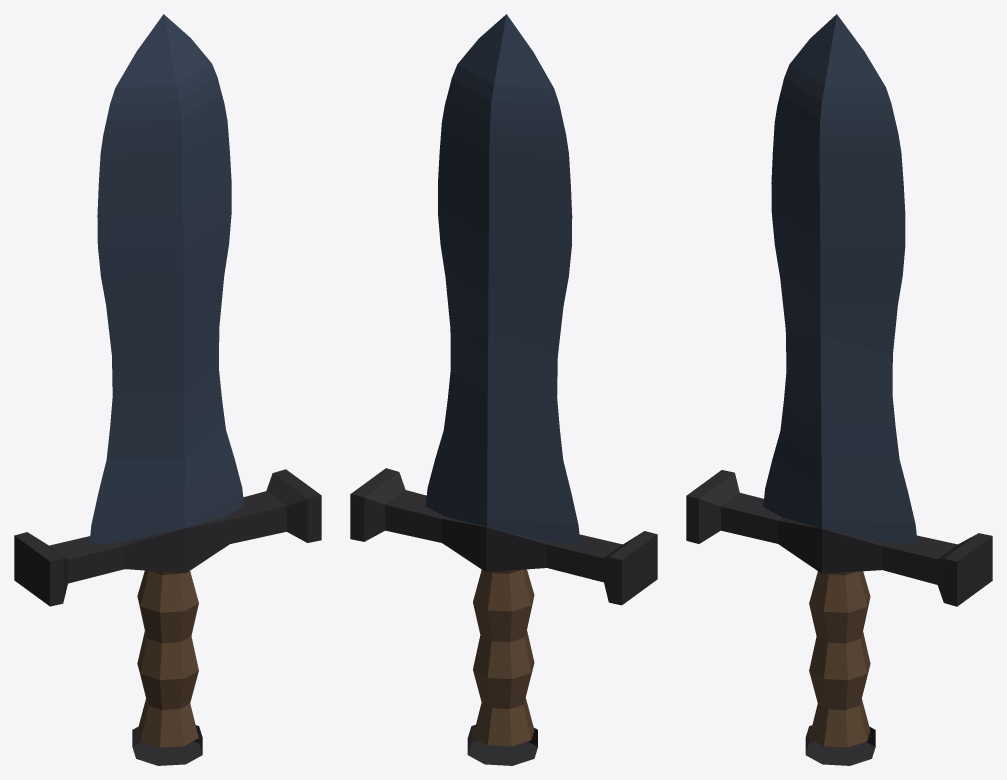
File: Sword.fbx
3 renders of one model, left to right at view 1: azimuth 30°, elevation 25°; view 2: azimuth 150°, elevation 25°; view 3: azimuth 330°, elevation 25°, orthographic.
Visible parts, largest first — view 1: Cube, Cube.002; view 2: Cube, Cube.002; view 3: Cube, Cube.002.
Part boxes in pixels (x1,y1,x2,y2): Cube: (89,14,244,543); Cube.002: (14,469,321,765); Cube: (425,14,580,544); Cube.002: (350,468,657,765); Cube: (763,14,917,543); Cube.002: (686,470,992,765).
Bounding box in the file's own units: 148 × 384 × 34.77.
